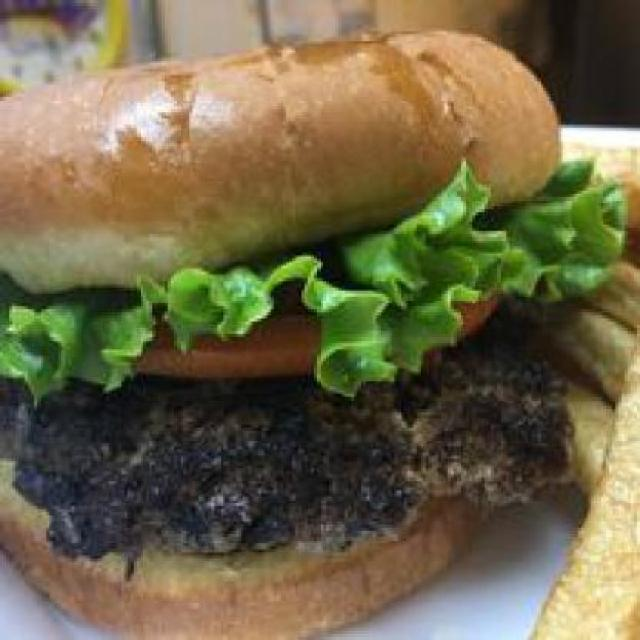french fries: (558, 118, 637, 637)
